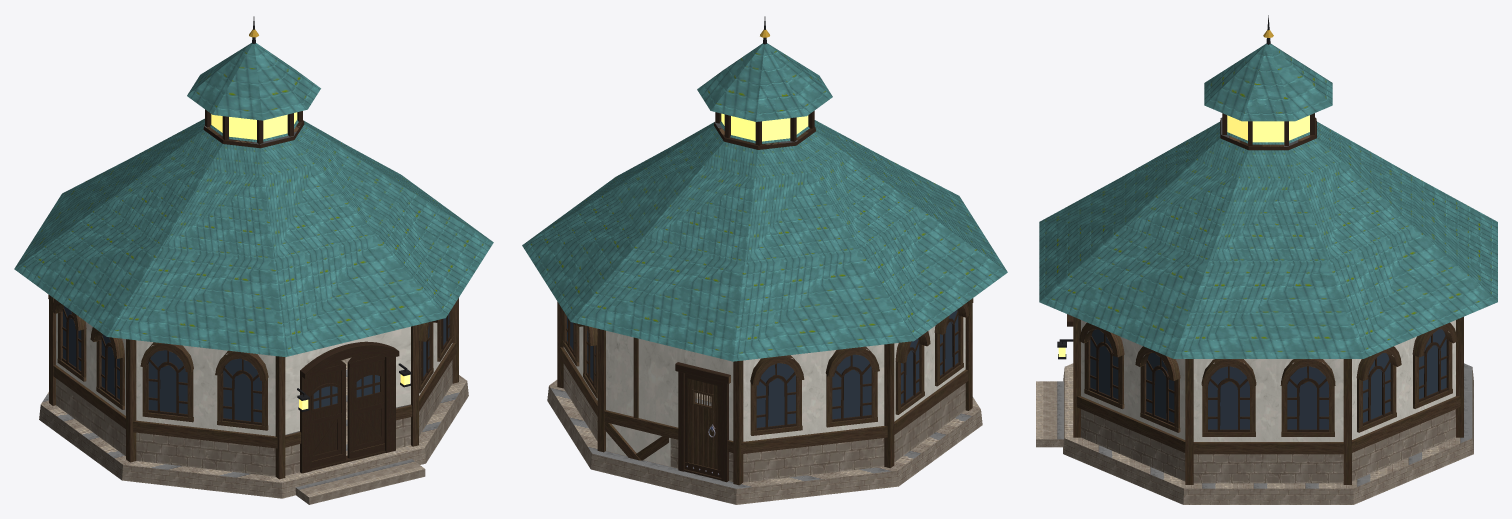
File: music_hall.glb
3 views of the same model, side by side, from view 1: azimuth 30°, elevation 25°; view 2: azimuth 150°, elevation 25°; view 3: azimuth 270°, elevation 25° (orthographic). The views are drawn at different scales.
Parts seen in each view (by area): view 1: Roof.044, Plinth.001, CupolaRoof.055, Wall_Plaster_Window_Wide_Round.033, Wall_Plaster_Window_Wide_Round.031, Wall_Plaster_Door_Round.003, Window_Wide_Round1.032, Door_1_Round.006, Window_Wide_Round1.034, DoorFrame_Round_WoodDark.004, Door_1_Round.005, Step.002 (+14 smaller); view 2: Roof.044, Plinth.001, Wall_Plaster_Straight.019, CupolaRoof.055, Wall_Plaster_Window_Wide_Round.025, Wall_Plaster_Window_Wide_Round.023, Window_Wide_Round1.024, Window_Wide_Round1.026, Door_8_Flat.022, Wall_Plaster_Door_Flat.020, Wall_Plaster_Window_Wide_Round.029, DoorFrame_Flat_WoodDark.021 (+13 smaller); view 3: Roof.044, Plinth.001, CupolaRoof.055, Wall_Plaster_Window_Wide_Round.013, Wall_Plaster_Window_Wide_Round.011, Window_Wide_Round1.014, Window_Wide_Round1.012, Wall_Plaster_Window_Wide_Round.009, Wall_Plaster_Window_Wide_Round.007, Wall_Plaster_Window_Wide_Round.017, Wall_Plaster_Window_Wide_Round.015, Window_Wide_Round1.010 (+10 smaller).
Part boxes in pixels (left/top/right/bottom): Roof.044: left=14, top=118, right=493, bottom=356; Plinth.001: left=39, top=357, right=468, bottom=498; CupolaRoof.055: left=187, top=43, right=320, bottom=120; Wall_Plaster_Window_Wide_Round.033: left=205, top=348, right=277, bottom=476; Wall_Plaster_Window_Wide_Round.031: left=133, top=340, right=205, bottom=468; Wall_Plaster_Door_Round.003: left=285, top=326, right=412, bottom=475; Window_Wide_Round1.032: left=140, top=342, right=193, bottom=422; Door_1_Round.006: left=347, top=355, right=384, bottom=459; Window_Wide_Round1.034: left=215, top=350, right=268, bottom=430; DoorFrame_Round_WoodDark.004: left=300, top=341, right=399, bottom=473; Door_1_Round.005: left=311, top=361, right=345, bottom=468; Step.002: left=295, top=459, right=425, bottom=504; Roof.044: left=522, top=120, right=1007, bottom=361; Plinth.001: left=547, top=380, right=982, bottom=504; Wall_Plaster_Straight.019: left=604, top=330, right=670, bottom=466; CupolaRoof.055: left=697, top=43, right=832, bottom=121; Wall_Plaster_Window_Wide_Round.025: left=814, top=344, right=887, bottom=474; Wall_Plaster_Window_Wide_Round.023: left=741, top=352, right=814, bottom=482; Window_Wide_Round1.024: left=750, top=355, right=804, bottom=435; Window_Wide_Round1.026: left=825, top=346, right=879, bottom=427; Door_8_Flat.022: left=685, top=373, right=721, bottom=477; Wall_Plaster_Door_Flat.020: left=669, top=346, right=733, bottom=481; Wall_Plaster_Window_Wide_Round.029: left=928, top=317, right=968, bottom=437; DoorFrame_Flat_WoodDark.021: left=675, top=362, right=730, bottom=482; Roof.044: left=1039, top=118, right=1497, bottom=358; Plinth.001: left=1063, top=363, right=1473, bottom=504; CupolaRoof.055: left=1204, top=43, right=1332, bottom=121; Wall_Plaster_Window_Wide_Round.013: left=1268, top=359, right=1343, bottom=483; Wall_Plaster_Window_Wide_Round.011: left=1193, top=359, right=1268, bottom=483; Window_Wide_Round1.014: left=1280, top=359, right=1335, bottom=436; Window_Wide_Round1.012: left=1201, top=359, right=1256, bottom=436; Wall_Plaster_Window_Wide_Round.009: left=1131, top=342, right=1185, bottom=481; Wall_Plaster_Window_Wide_Round.007: left=1076, top=320, right=1133, bottom=459; Wall_Plaster_Window_Wide_Round.017: left=1403, top=320, right=1460, bottom=459; Wall_Plaster_Window_Wide_Round.015: left=1352, top=342, right=1405, bottom=481; Window_Wide_Round1.010: left=1135, top=346, right=1180, bottom=432.
Bounding box in the file's own units: 13.32 × 12.95 × 13.41.
Materials: 10 (6 with a texture image).
